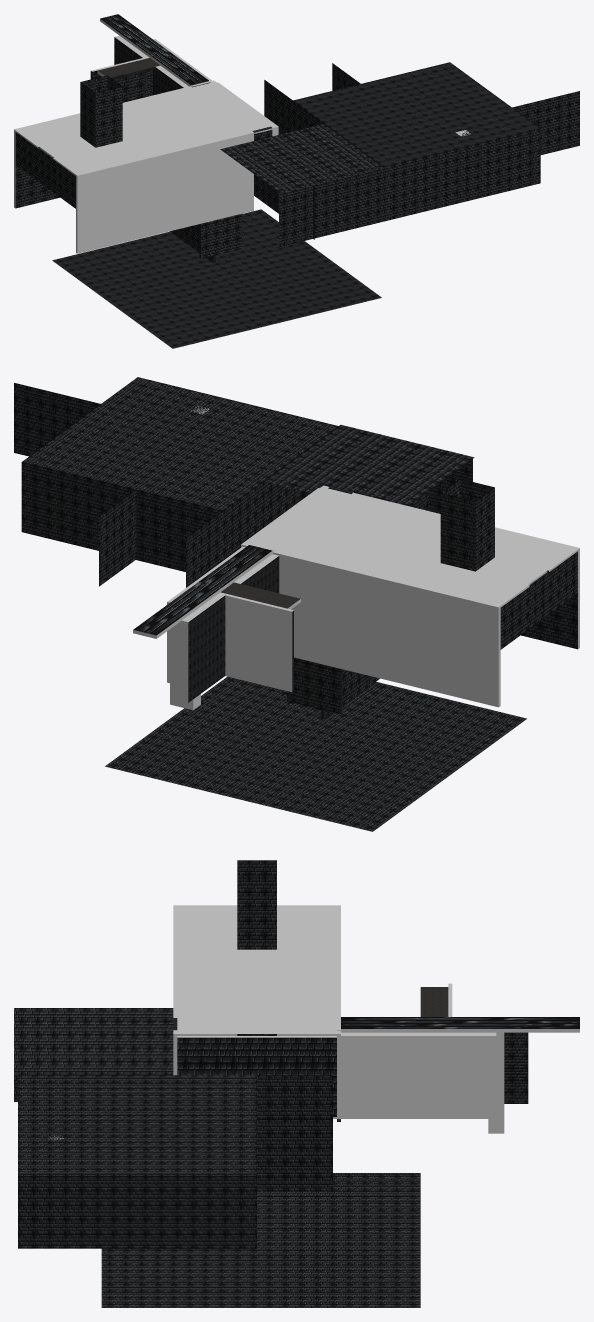
Rendered from MapCobble.obj.
The picture shows the model from 3 angles, top to bottom: view 1: azimuth 30°, elevation 25°; view 2: azimuth 150°, elevation 25°; view 3: azimuth 270°, elevation 25°; orthographic projection. The views are drawn at different scales.
Visible parts, largest first — view 1: Plane.002_Plane.003, Plane.005_Plane, Entrance_Wall.006_Cube.010, Plane.009_Plane.011, Plane.016_Plane.017, Plane.006_Plane.008, Entrance_Wall.007_Cube.020, Entrance_Wall.008_Cube.021, Plane.010_Plane.012, Entrance_Wall.010_Cube.025, Cube.005_Cube.027, Entrance_Wall.002_Cube.023 (+12 smaller); view 2: Plane.002_Plane.003, Plane.005_Plane, Entrance_Wall.005_Cube.013, Plane.017_Plane.018, Plane.016_Plane.017, Entrance_Wall.008_Cube.021, Entrance_Wall.007_Cube.020, Entrance_Wall.003_Cube.011, Plane.012_Plane.005, Entrance_Wall.012_Cube.029, Plane.010_Plane.012, Entrance_Wall.010_Cube.025 (+13 smaller); view 3: Plane.002_Plane.003, Plane.005_Plane, Plane.015_Plane.016, Entrance_Wall.001_Cube.001, Plane.016_Plane.017, Entrance_Wall.007_Cube.020, Entrance_Wall.008_Cube.021, Entrance_Wall.011_Cube.026, Plane.011_Plane.013, Cube.005_Cube.027, Entrance_Wall.002_Cube.023, Plane.012_Plane.005 (+5 smaller).
Boxes of the visible parts, x1=… form: Plane.002_Plane.003: x1=52, y1=209, x2=381, y2=348; Plane.005_Plane: x1=293, y1=62, x2=540, y2=166; Entrance_Wall.006_Cube.010: x1=76, y1=134, x2=253, y2=253; Plane.009_Plane.011: x1=383, y1=128, x2=540, y2=221; Plane.016_Plane.017: x1=220, y1=123, x2=384, y2=193; Plane.006_Plane.008: x1=279, y1=168, x2=383, y2=246; Entrance_Wall.007_Cube.020: x1=53, y1=109, x2=277, y2=177; Entrance_Wall.008_Cube.021: x1=14, y1=80, x2=237, y2=148; Plane.010_Plane.012: x1=512, y1=91, x2=579, y2=154; Entrance_Wall.010_Cube.025: x1=15, y1=132, x2=75, y2=208; Cube.005_Cube.027: x1=100, y1=14, x2=208, y2=86; Entrance_Wall.002_Cube.023: x1=122, y1=98, x2=252, y2=140; Plane.002_Plane.003: x1=105, y1=676, x2=526, y2=831; Plane.005_Plane: x1=22, y1=377, x2=338, y2=510; Entrance_Wall.005_Cube.013: x1=279, y1=556, x2=500, y2=707; Plane.017_Plane.018: x1=21, y1=462, x2=222, y2=571; Plane.016_Plane.017: x1=264, y1=425, x2=474, y2=505; Entrance_Wall.008_Cube.021: x1=242, y1=522, x2=529, y2=609; Entrance_Wall.007_Cube.020: x1=293, y1=485, x2=579, y2=572; Entrance_Wall.003_Cube.011: x1=225, y1=594, x2=293, y2=692; Plane.012_Plane.005: x1=186, y1=481, x2=301, y2=587; Entrance_Wall.012_Cube.029: x1=181, y1=592, x2=226, y2=702; Plane.010_Plane.012: x1=14, y1=383, x2=100, y2=456; Entrance_Wall.010_Cube.025: x1=500, y1=551, x2=577, y2=649; Plane.002_Plane.003: x1=101, y1=1173, x2=420, y2=1307; Plane.005_Plane: x1=18, y1=1075, x2=256, y2=1176; Plane.015_Plane.016: x1=18, y1=1176, x2=256, y2=1248; Entrance_Wall.001_Cube.001: x1=337, y1=1032, x2=496, y2=1118; Plane.016_Plane.017: x1=14, y1=1008, x2=173, y2=1075; Entrance_Wall.007_Cube.020: x1=173, y1=905, x2=237, y2=1035; Entrance_Wall.008_Cube.021: x1=277, y1=905, x2=340, y2=1035; Entrance_Wall.011_Cube.026: x1=177, y1=1036, x2=336, y2=1116; Plane.011_Plane.013: x1=257, y1=1119, x2=332, y2=1191; Cube.005_Cube.027: x1=341, y1=1017, x2=579, y2=1032; Entrance_Wall.002_Cube.023: x1=237, y1=949, x2=276, y2=1035; Plane.012_Plane.005: x1=257, y1=1075, x2=332, y2=1118.
Size of the model in its own units: 90.25 by 41 by 71.
